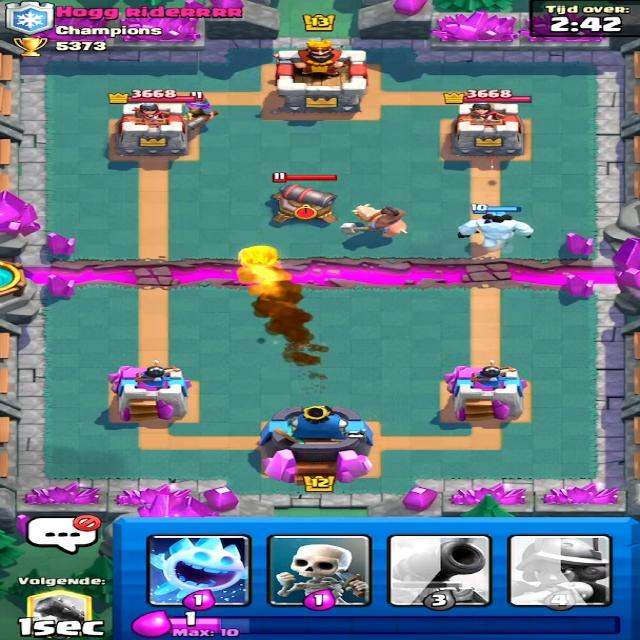Cannon_Card: (390, 537, 487, 605)
Enemy_Cannon_Troop: (271, 177, 339, 228)
Enemy_Musketeer_Troop: (172, 92, 223, 135)
Fireball_Troop: (228, 244, 284, 277)
Hog_Rider_Troop: (343, 197, 410, 239)
Ice_Golem_Troop: (448, 211, 536, 250)
Ice_Spirit_Card: (156, 535, 252, 604)
Musketeer_Card: (507, 535, 611, 606)
Skeleton_Card: (278, 532, 368, 604)
